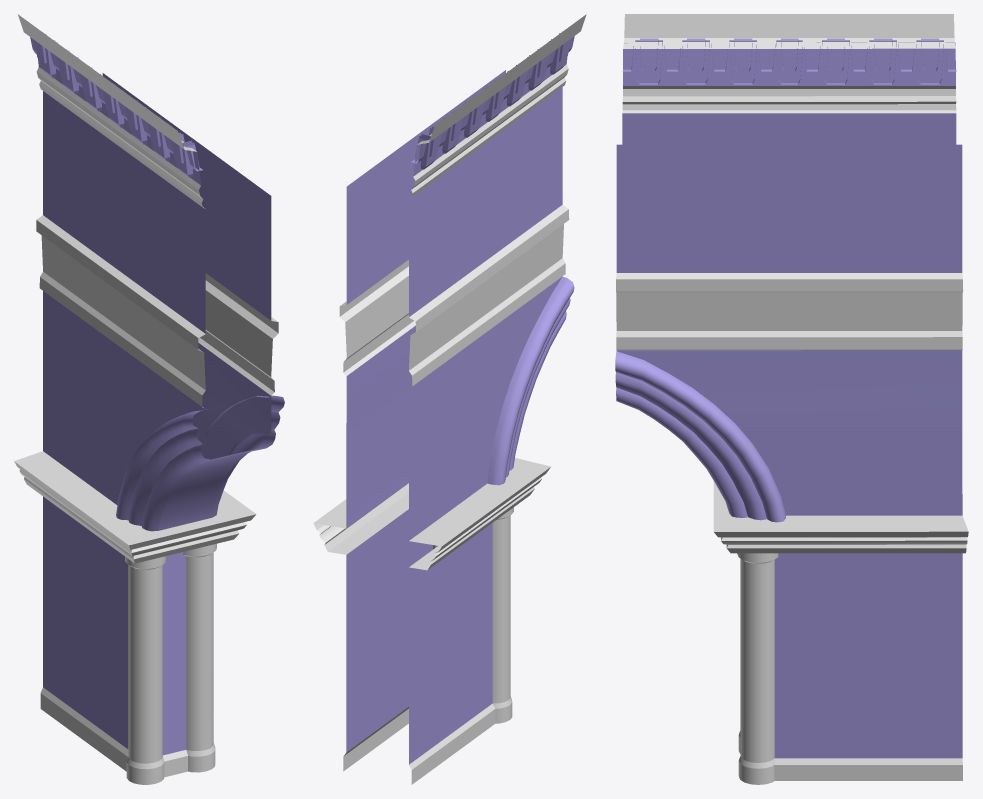
Rendered from Arch End Right.fbx.
The picture shows the model from 3 angles, left to right: view 1: azimuth 30°, elevation 25°; view 2: azimuth 150°, elevation 25°; view 3: azimuth 270°, elevation 25°; orthographic projection. The views are drawn at different scales.
Visible parts, largest first — view 1: Arch End Right_LOD0; view 2: Arch End Right_LOD0; view 3: Arch End Right_LOD0.
Part boxes in pixels (box(x1,y1,x2,y2)): Arch End Right_LOD0: box(14, 14, 284, 784); Arch End Right_LOD0: box(313, 14, 586, 784); Arch End Right_LOD0: box(615, 14, 968, 784).
Size of what is drawn, in the model's own units: 161 by 844 by 375.
